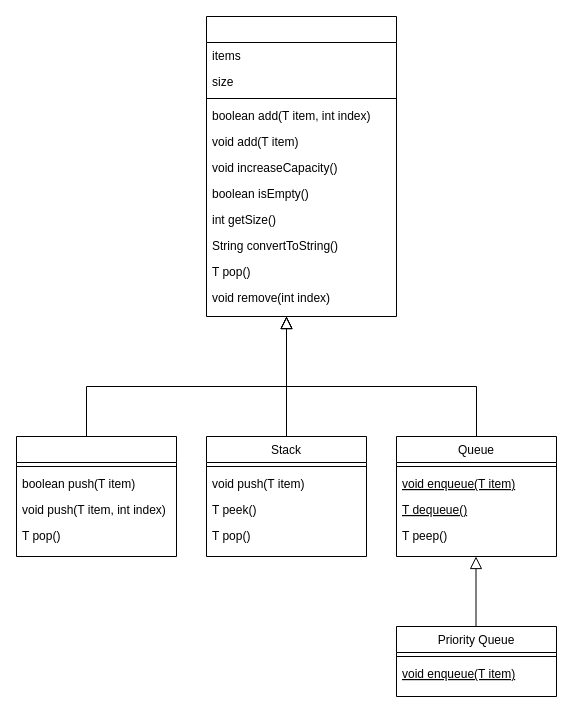
Image size: 573x713. Some labels were removed from this diagram. The shapes that lost their labels are listed below. From the top down, each one's box as (x1, y1, x2, y2) in pixels, then its label:
(206, 16, 396, 316): Static_Structure
(16, 436, 176, 556): List
